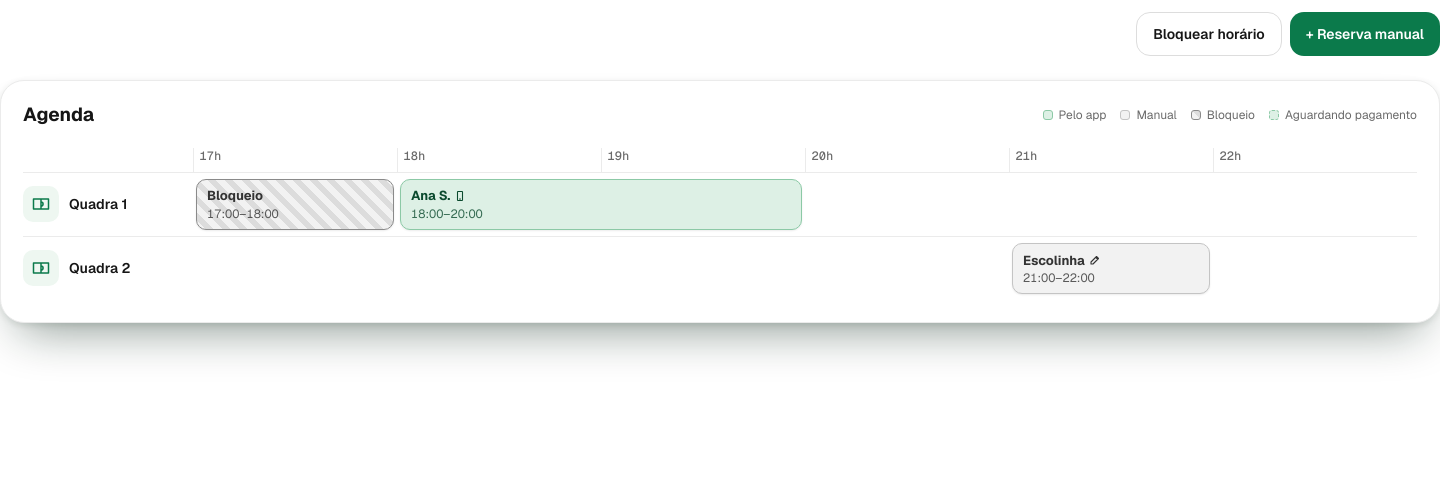
Test: AgendaView (wide) › selects an item, shows its detail below and moves the focus there
Step 1. Click the button named "Quadra 1, 18:00–20:00, reserva de Ana S., pelo app, confirmada" → (431, 196), box 400,178 -> 802,230
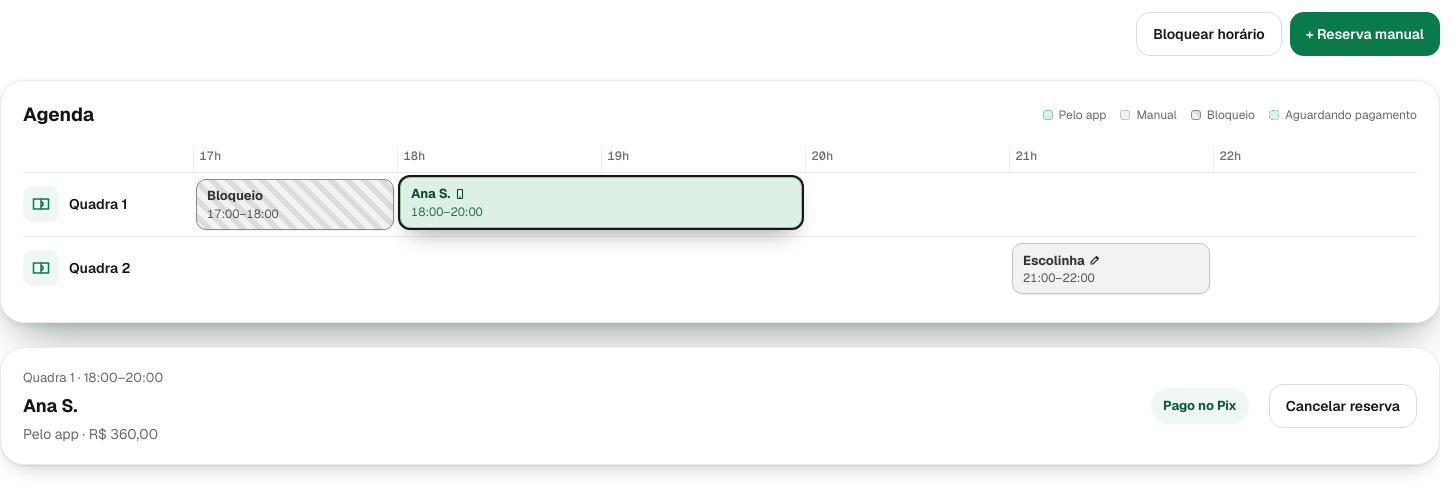
expect the text "Quadra 1 · 18:00–20:00" is shown: met, box 23,369 -> 163,386
expect the heading "Ana S." is shown: met, box 23,394 -> 78,416
expect the text "Pelo app · R$ 360,00" is shown: met, box 23,424 -> 158,442
